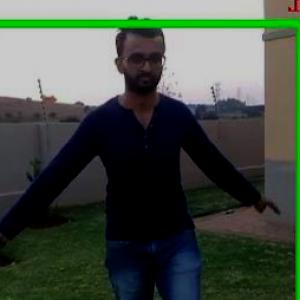land: (1, 29, 299, 299)
